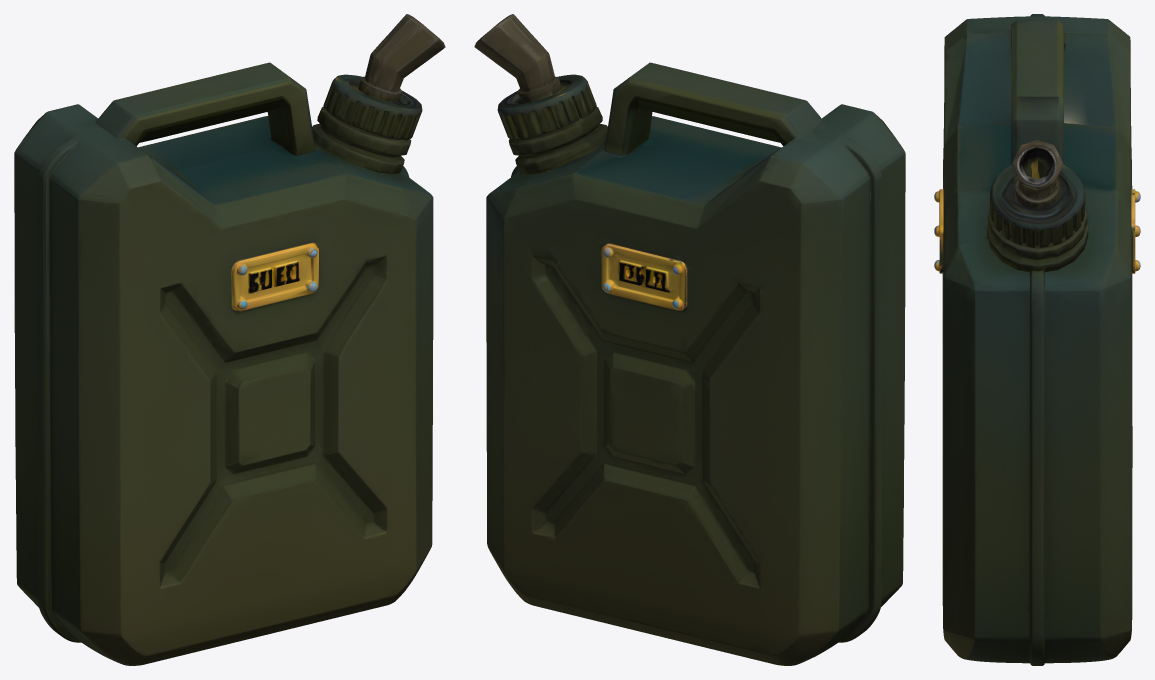
File: GasCanister.fbx
3 views of the same model, side by side, from view 1: azimuth 30°, elevation 25°; view 2: azimuth 150°, elevation 25°; view 3: azimuth 270°, elevation 25° (orthographic).
Parts seen in each view (by area): view 1: texture_pbr_v128; view 2: texture_pbr_v128; view 3: texture_pbr_v128.
Part boxes in pixels (x1=…): texture_pbr_v128: x1=14, y1=14, x2=445, y2=665; texture_pbr_v128: x1=474, y1=14, x2=905, y2=665; texture_pbr_v128: x1=934, y1=14, x2=1140, y2=665.
Size of the model in its own units: 76.8 by 99.49 by 34.2.
1 material, 1 textured.
